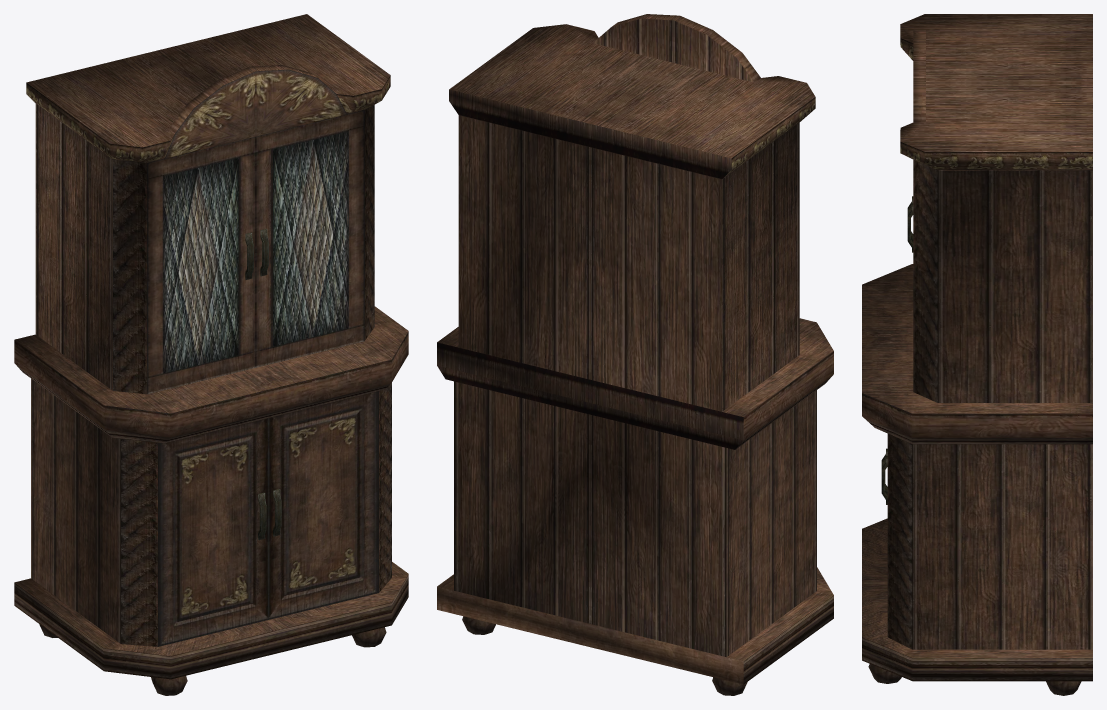
The model's file is GS_CITY_CUPBOARD_ORANGE_03_KOZA.glb.
3 renders of one model, left to right at view 1: azimuth 30°, elevation 25°; view 2: azimuth 150°, elevation 25°; view 3: azimuth 270°, elevation 25°, orthographic.
Parts seen in each view (by area): view 1: Mesh; view 2: Mesh; view 3: Mesh.
Part boxes in pixels (bbox=[...]): Mesh: bbox=[14, 14, 408, 695]; Mesh: bbox=[437, 14, 833, 695]; Mesh: bbox=[862, 14, 1092, 695].
Bounding box in the file's own units: 1.38 × 2.53 × 0.9.
5 materials, 5 textured.
